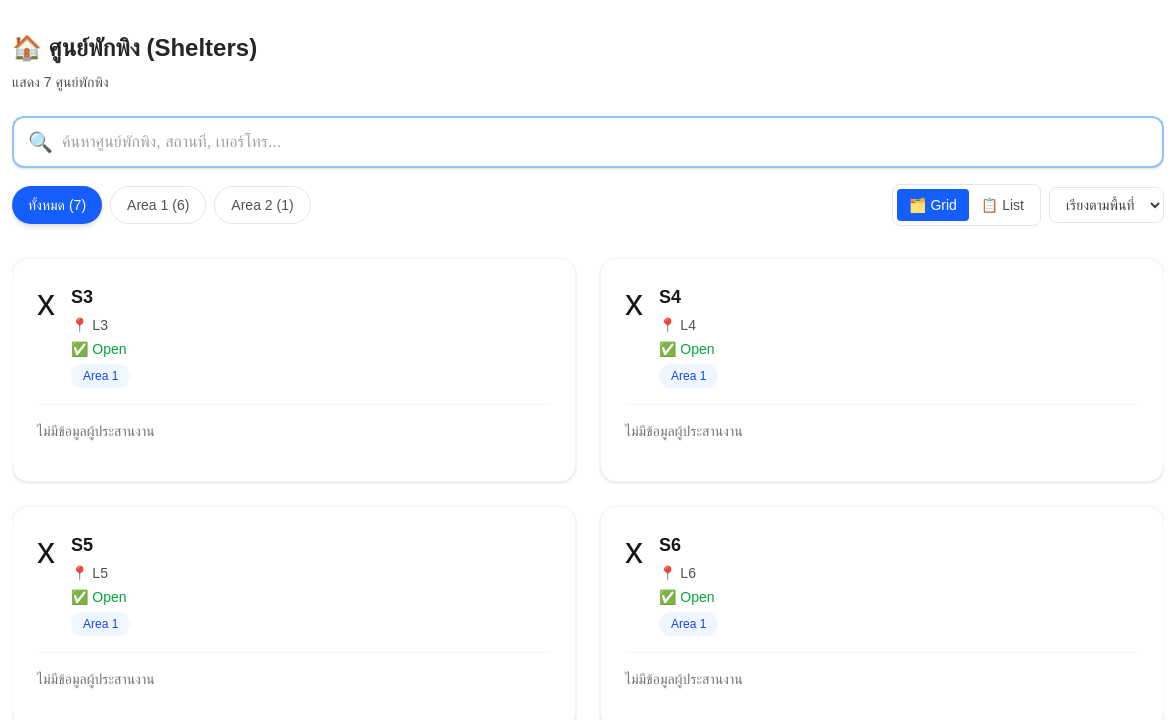
it: SheltersSection › filters by area
Click the button "Area 2 (1)". click: (262, 205)
box: [214,186,311,224]
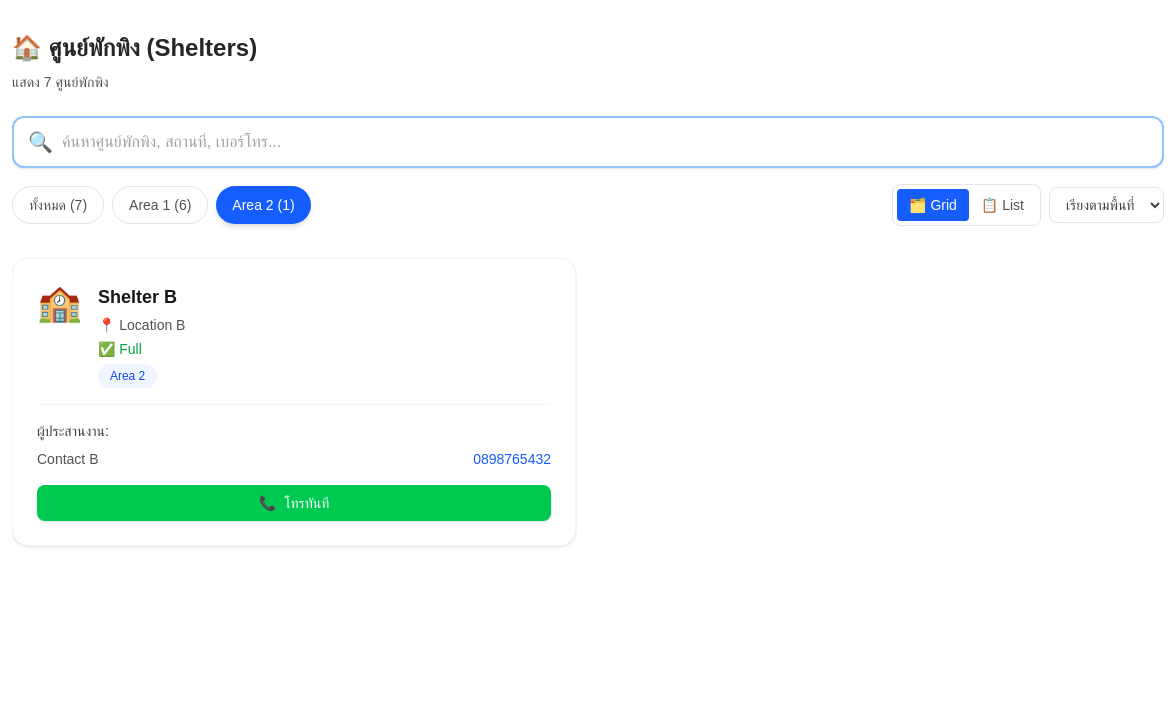
Now the heading "Shelter B" is shown, box [98,287,177,307]
